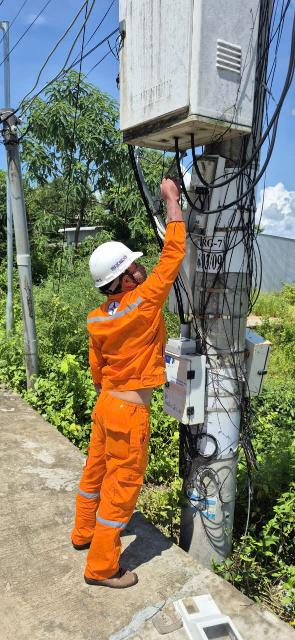gloves: (158, 174, 191, 228)
helmet: (81, 237, 143, 287)
shoes: (85, 562, 147, 592)
